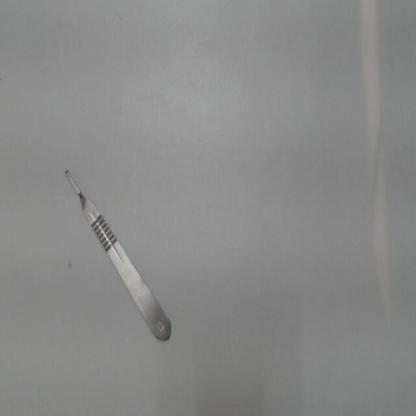No.3 BP Handle: (48, 146, 189, 362)
